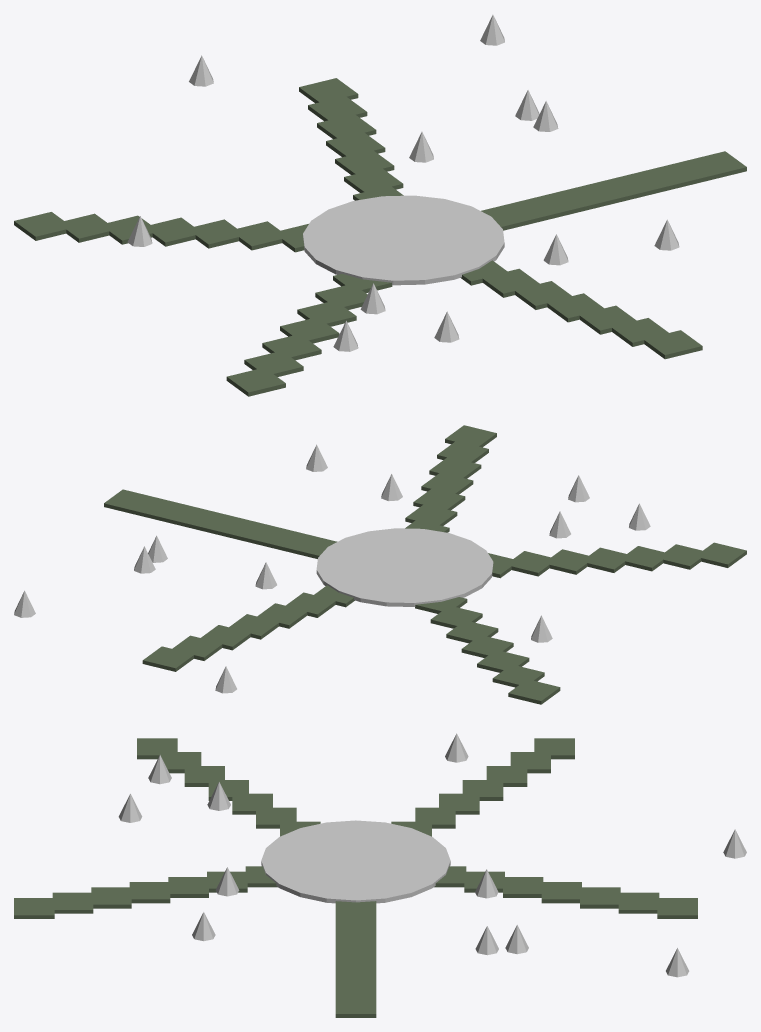
Rendered from layout_main.obj.
3 views of the same model, one above another, from view 1: azimuth 30°, elevation 25°; view 2: azimuth 150°, elevation 25°; view 3: azimuth 270°, elevation 25° (orthographic). The views are drawn at different scales.
Visible parts, largest first — view 1: paths, plaza, scatter; view 2: paths, plaza, scatter; view 3: paths, plaza, scatter.
Part boxes in pixels (left/top/right/bottom): paths: left=14, top=78, right=746, bottom=396; plaza: left=303, top=195, right=504, bottom=285; scatter: left=127, top=15, right=679, bottom=351; paths: left=104, top=425, right=746, bottom=704; plaza: left=316, top=528, right=493, bottom=606; scatter: left=14, top=444, right=650, bottom=693; paths: left=14, top=738, right=697, bottom=1017; plaza: left=261, top=820, right=450, bottom=903; scatter: left=118, top=733, right=746, bottom=977.
Size of the model in its own units: 48.23 by 3.08 by 54.19.
